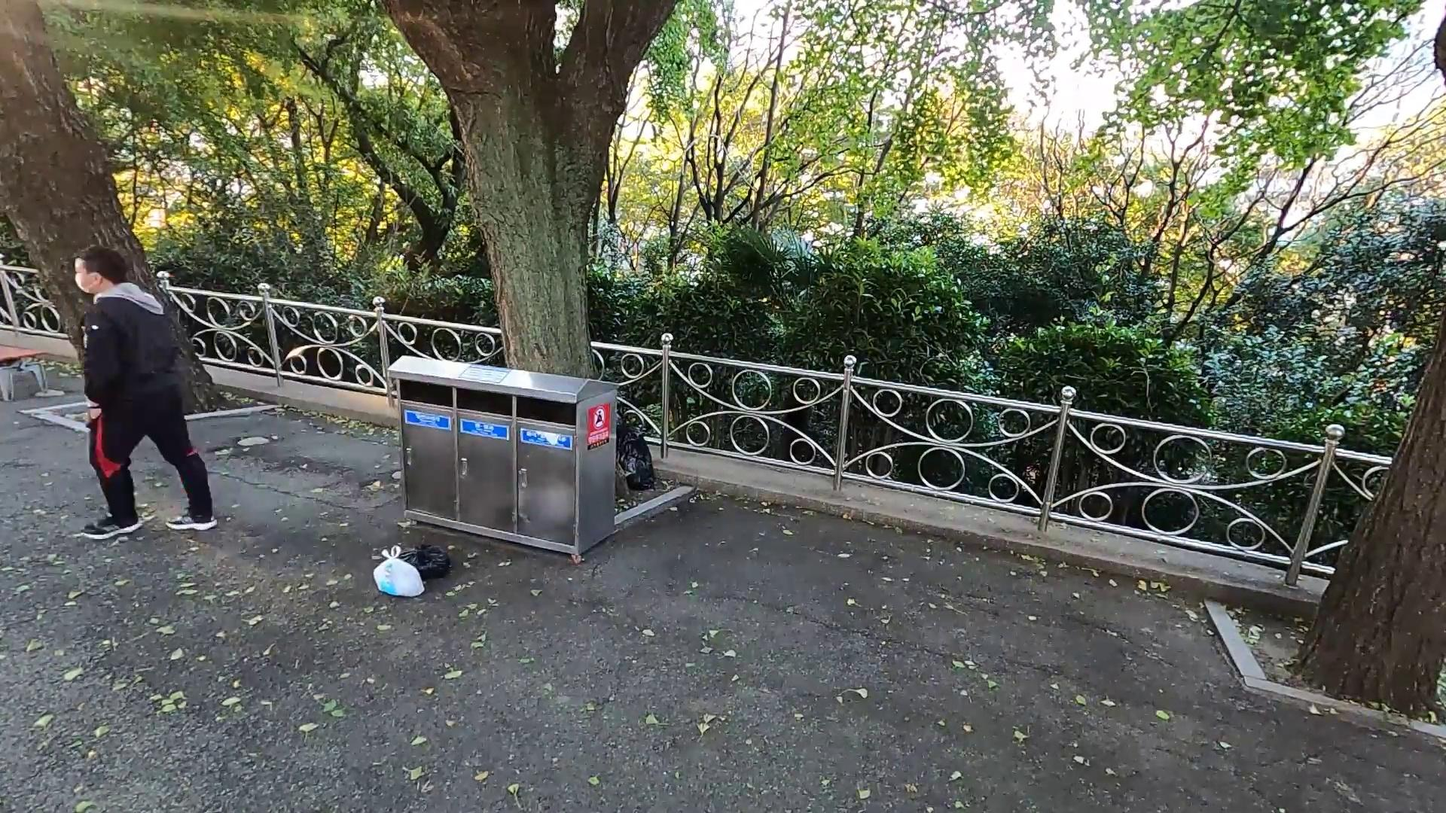person: (58, 244, 222, 543)
trash: (613, 407, 661, 490), (374, 545, 429, 604), (391, 539, 451, 584)
